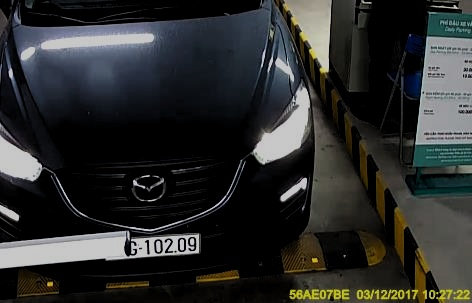plate: (99, 231, 201, 257)
